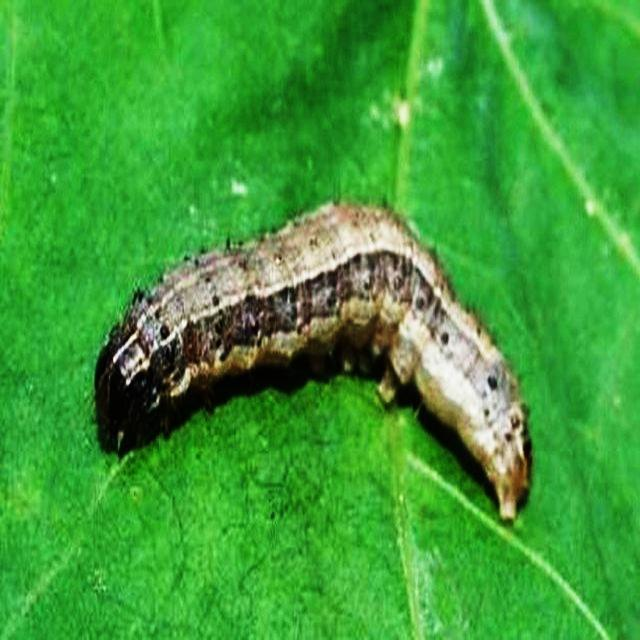gusano_cogollero: (93, 200, 530, 520)
